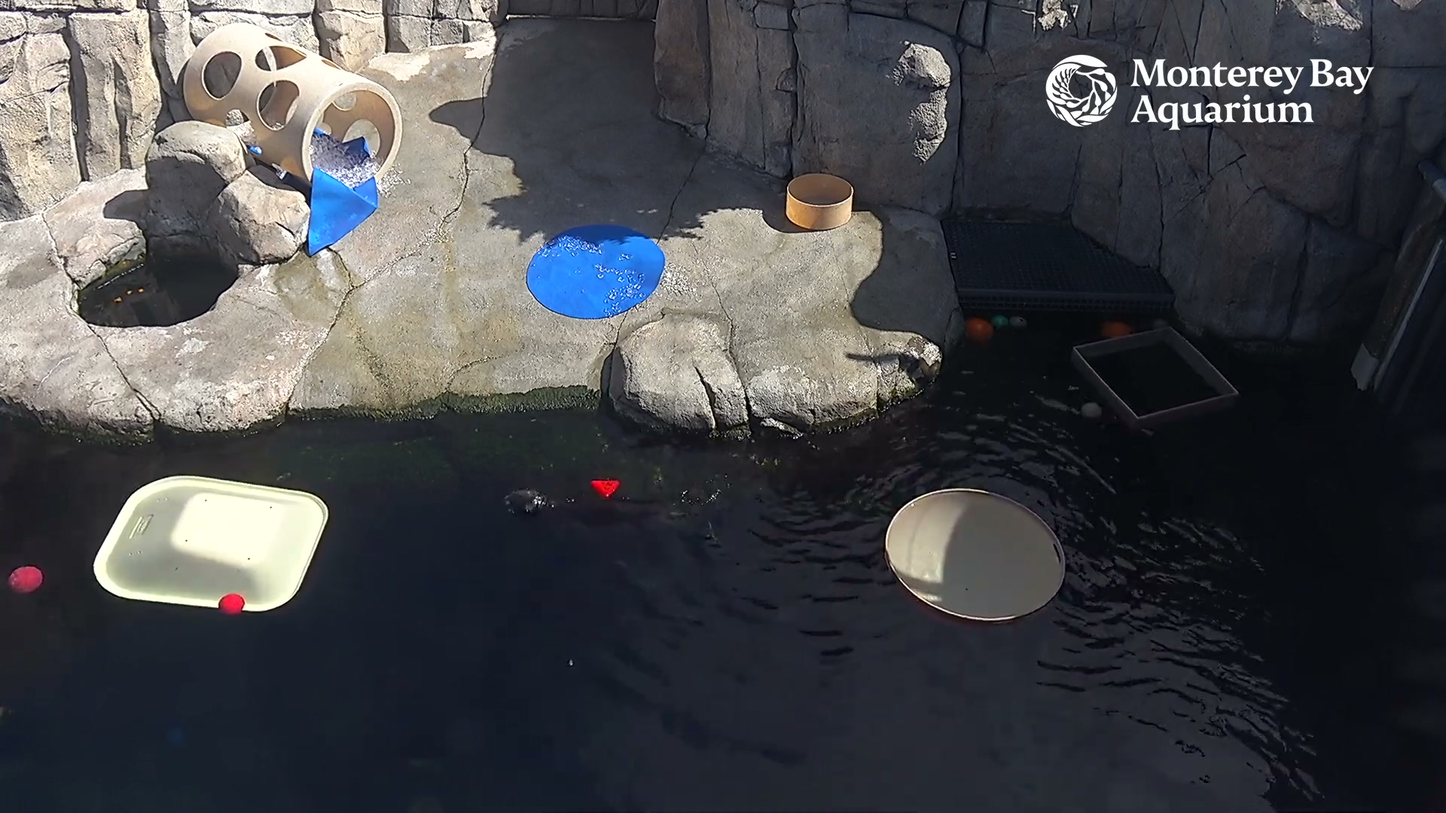Southern Sea Otter: (484, 460, 735, 540)
